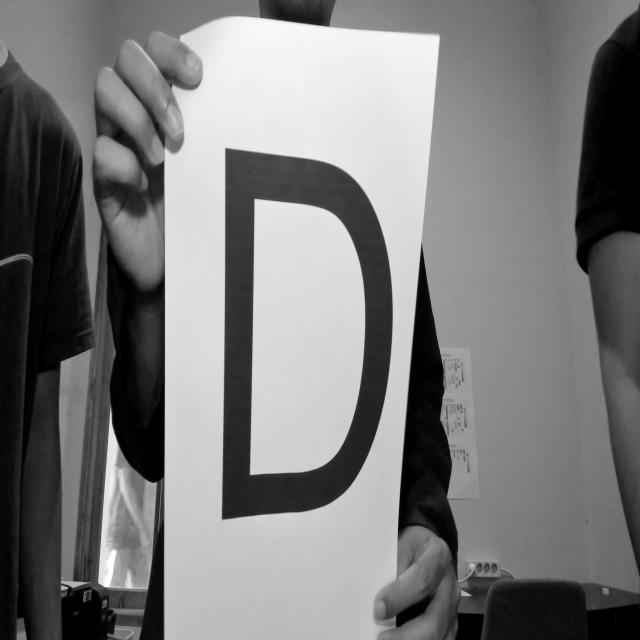d: (206, 127, 397, 541)
